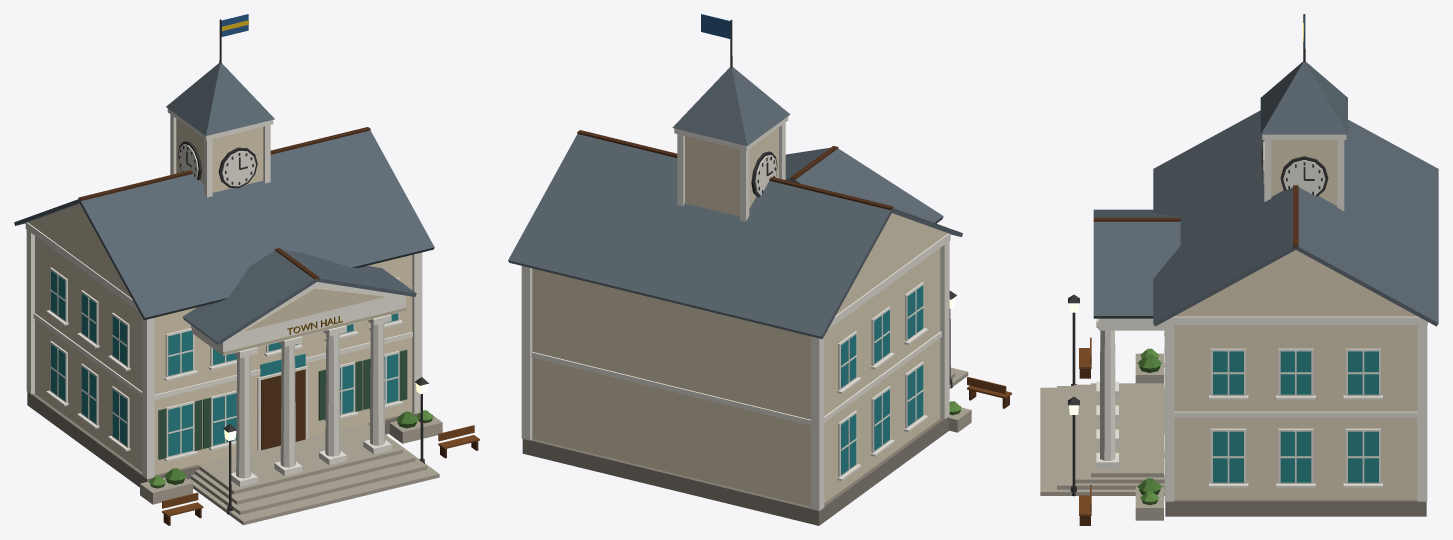
Rendered from Building_TownHall.fbx.
The picture shows the model from 3 angles, left to right: view 1: azimuth 30°, elevation 25°; view 2: azimuth 150°, elevation 25°; view 3: azimuth 270°, elevation 25°; orthographic projection. The views are drawn at different scales.
Visible parts, largest first — view 1: Building_TownHall; view 2: Building_TownHall; view 3: Building_TownHall.
Part boxes in pixels (<box>): Building_TownHall: <box>14,14,479,525</box>; Building_TownHall: <box>508,14,1011,525</box>; Building_TownHall: <box>1040,14,1438,525</box>.
Size of the model in its own units: 14 by 16.85 by 14.18.
